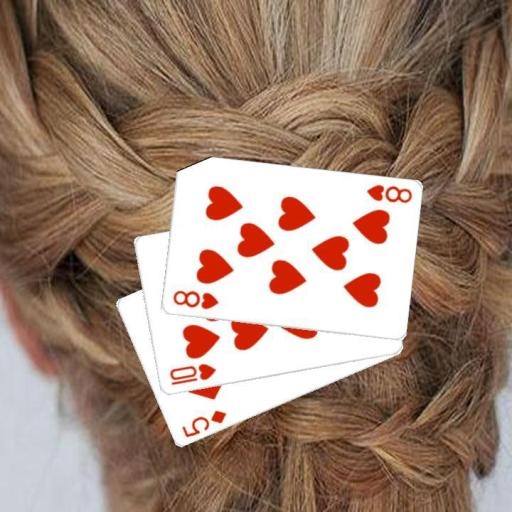10H: (166, 361, 217, 388)
5D: (179, 408, 228, 440)
8H: (169, 287, 220, 311), (364, 181, 414, 205)
